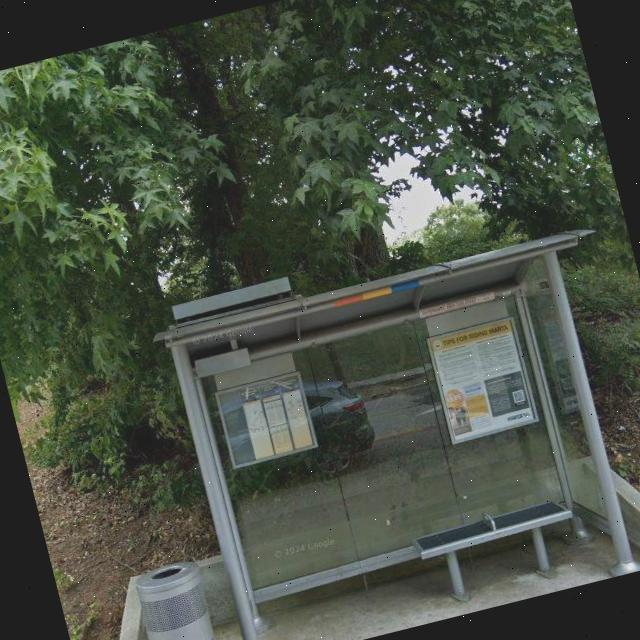seating: (411, 493, 586, 608)
shelter: (151, 217, 640, 640)
trash_can: (128, 557, 228, 640)
